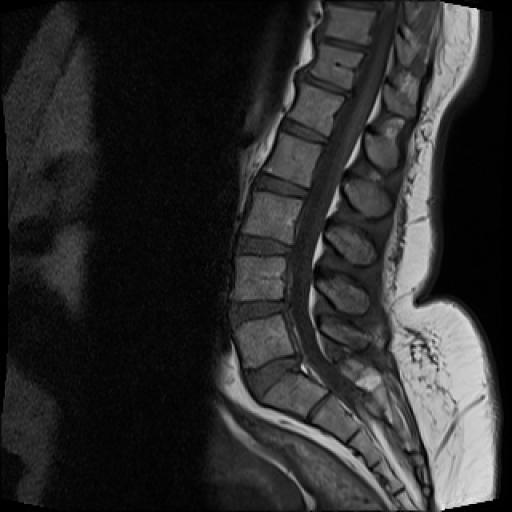L1: (288, 82, 344, 136)
L2: (264, 132, 322, 188)
L3: (242, 192, 302, 244)
L4: (234, 257, 285, 300)
L5: (234, 315, 294, 368)
S1: (263, 372, 328, 418)
